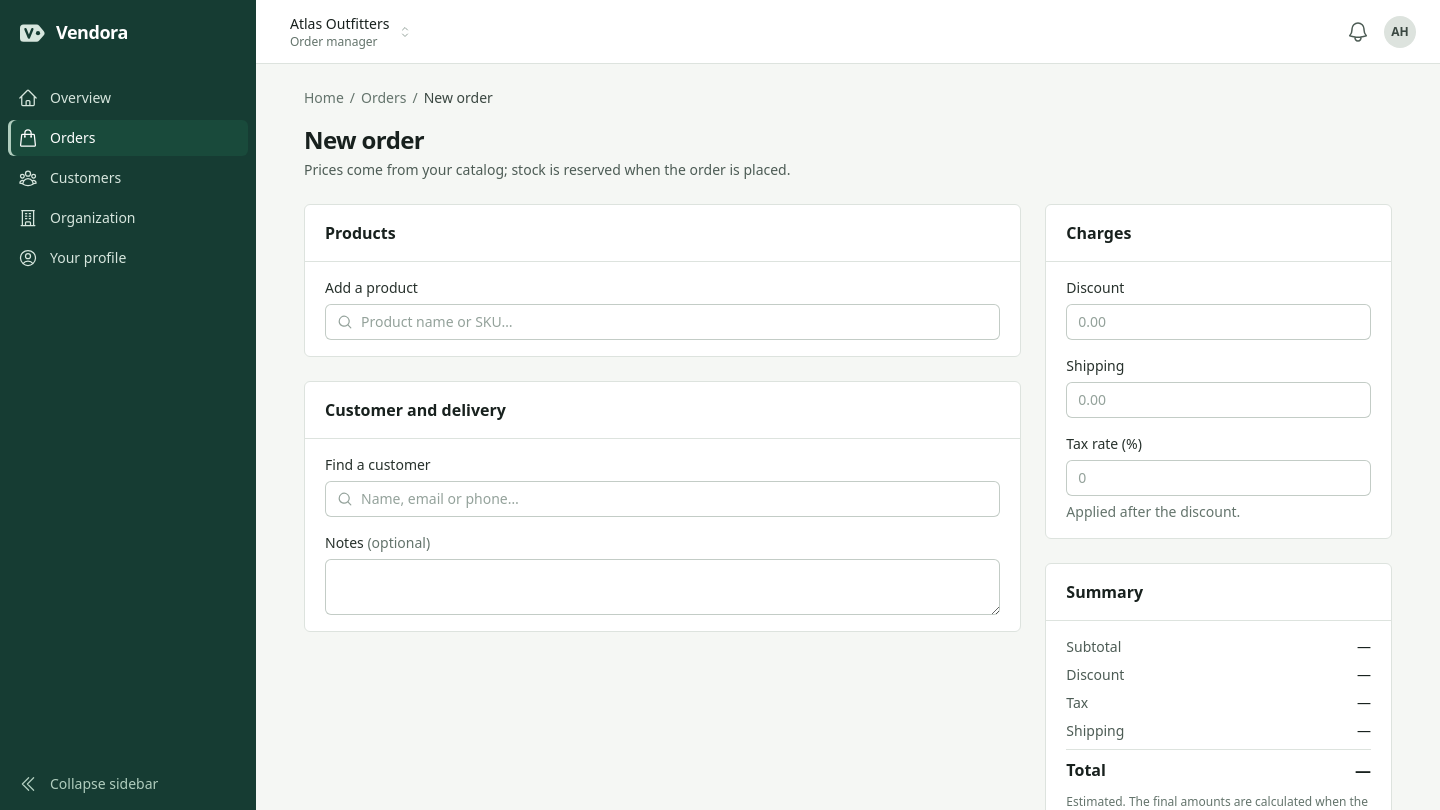
Scenario: new order form › warns about low stock and validates quantities before sending
The image size is (1440, 810).
Type "mug" into the search field labelled "Add a product" at [663, 322], box [325,304,1000,340]
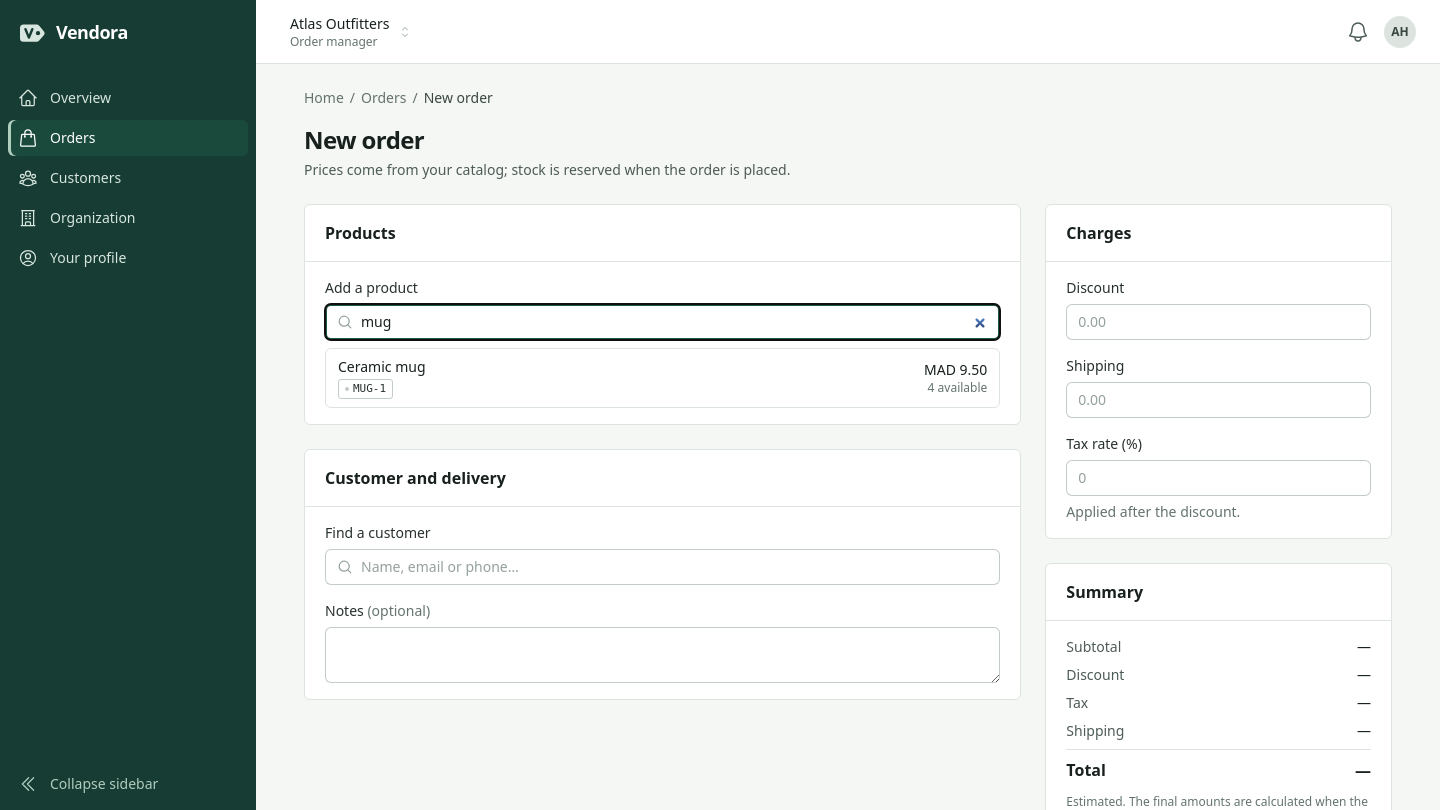
Click the button "Ceramic mug MUG-1 MAD 9.50 4 available" at [382, 366], box [326,349,999,407]
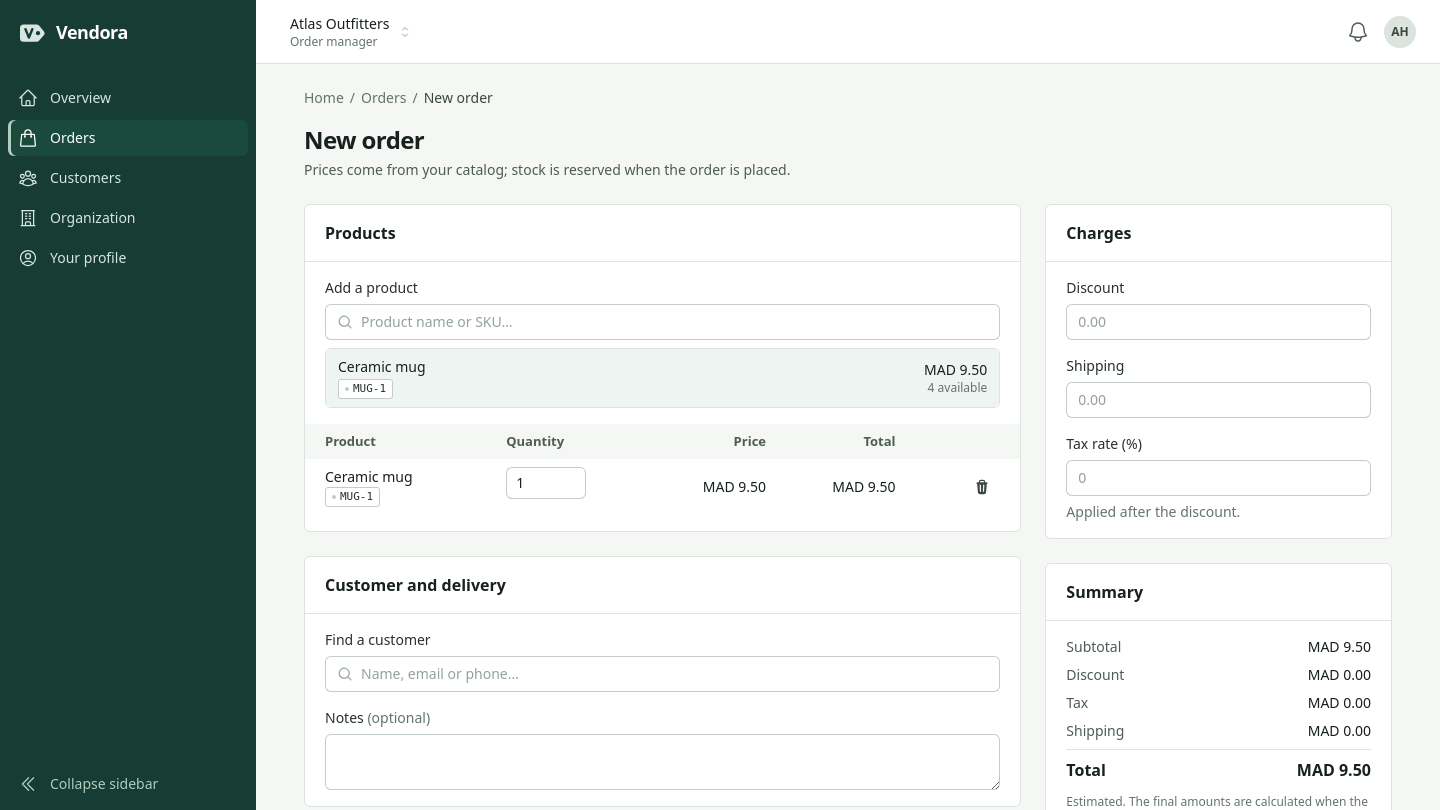
Replace the text in the field named "Quantity of MUG-1" with "6" at [546, 483], box [506,467,586,499]
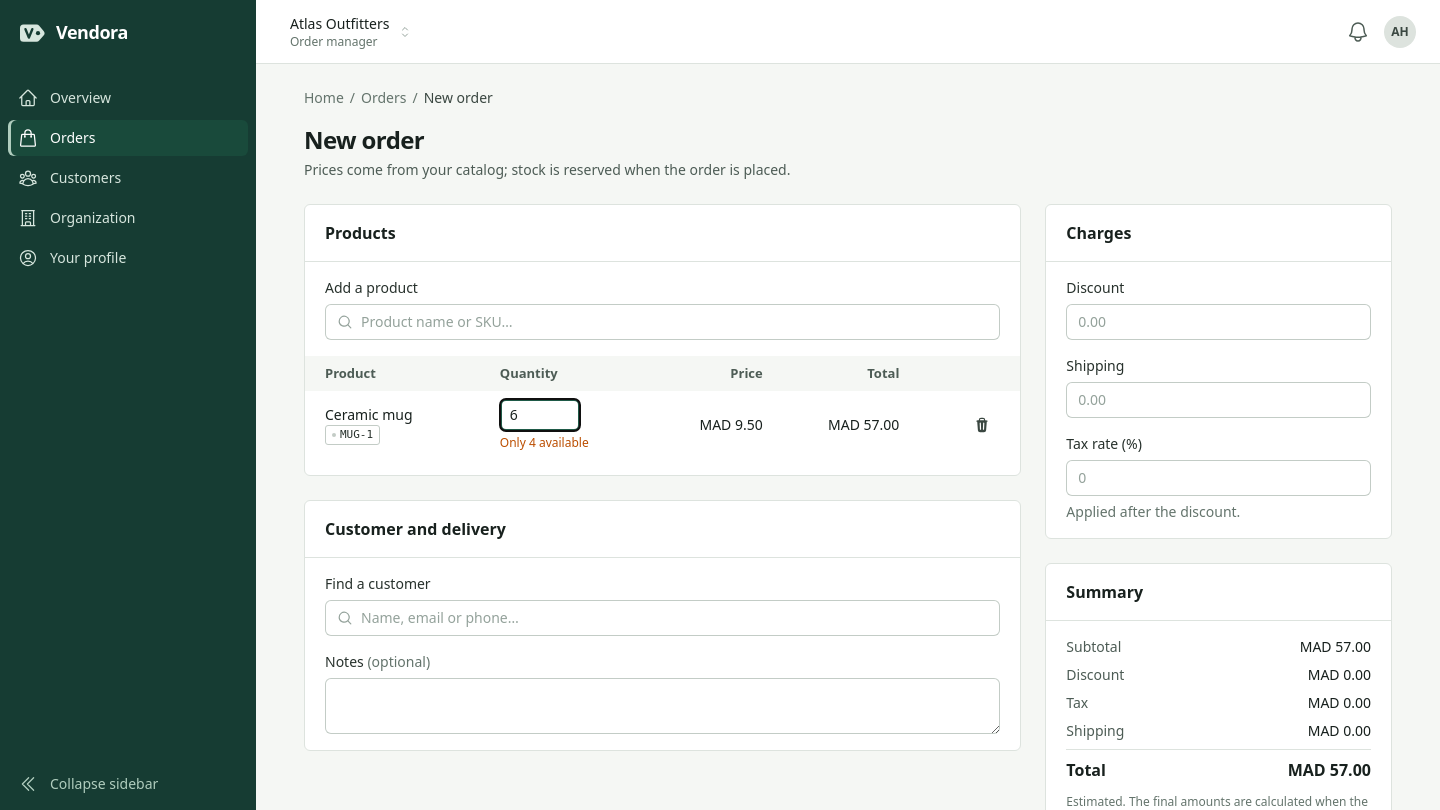
Check: the text "Only 4 available" is shown, box [500,434,589,451]
Clear the field named "Quantity of MUG-1" at [540, 415], box [500,399,580,431]
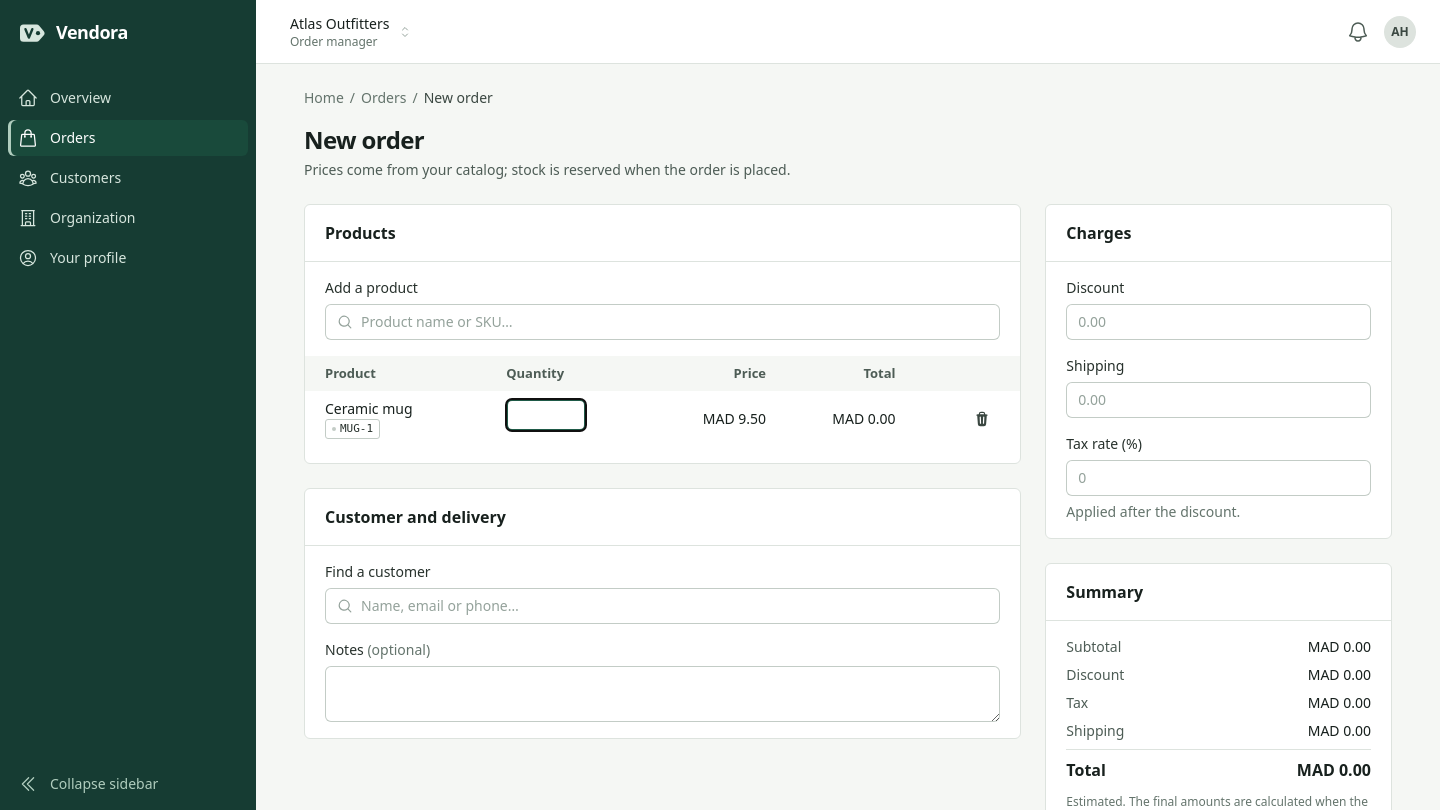
Type "0" into the field named "Quantity of MUG-1" at [546, 415], box [506,399,586,431]
(page scrolled)
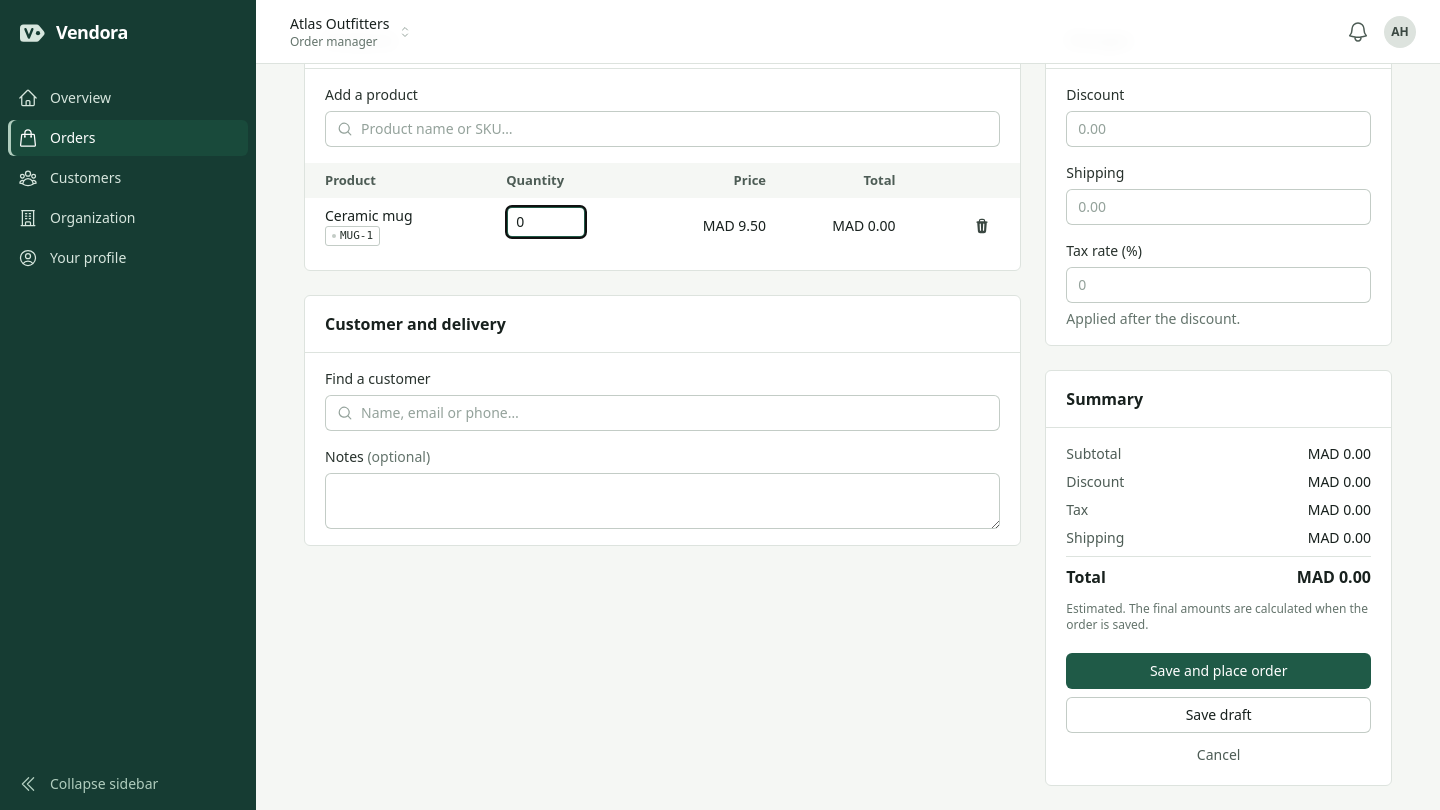
Click the button "Save and place order" at [1219, 671], box [1066,653,1371,689]
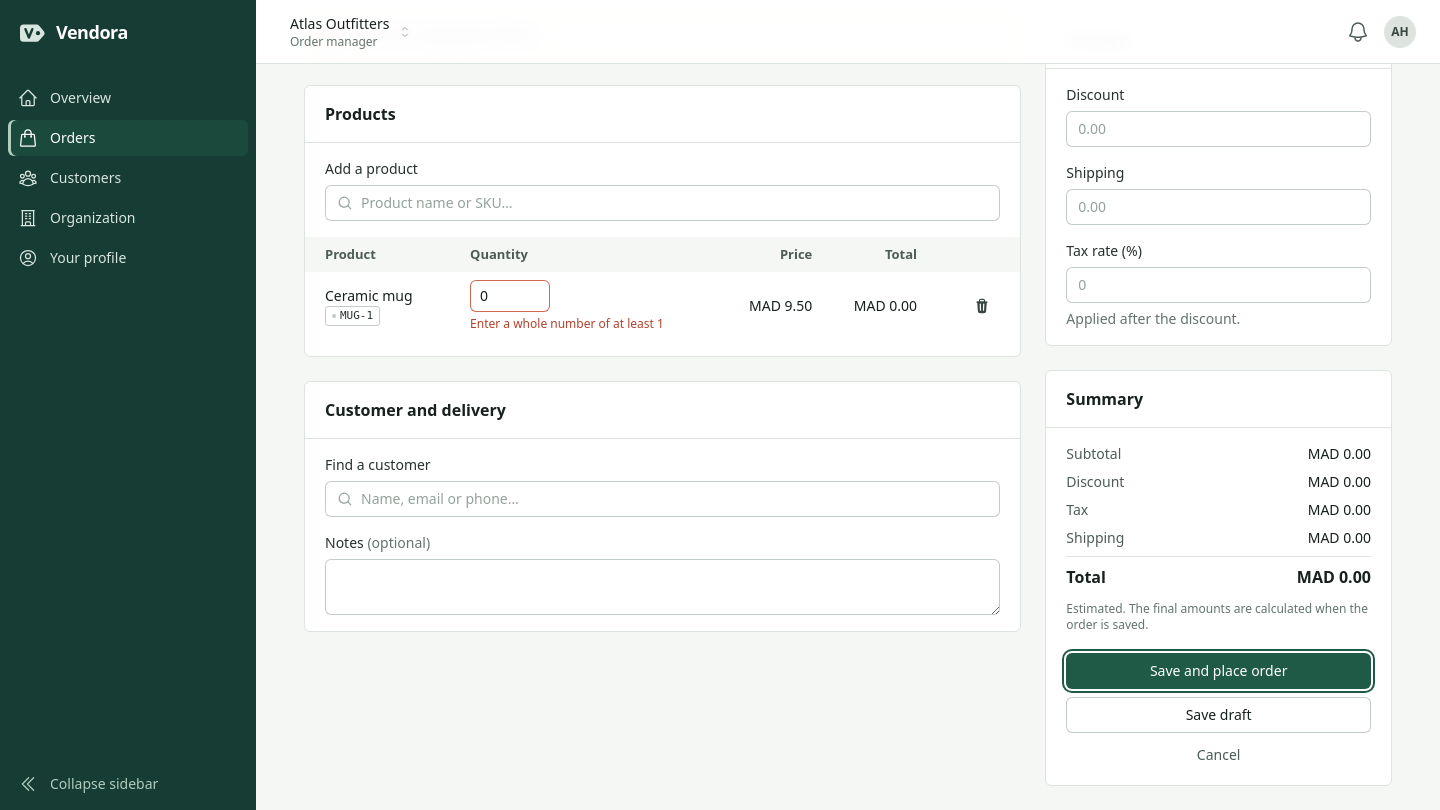
Check: the text "Enter a whole number of at least 1" is shown, box [470,315,664,332]
